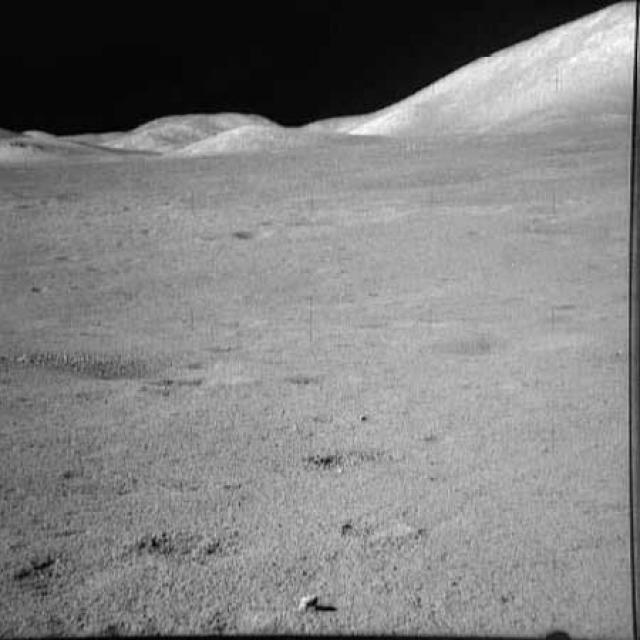crater: (52, 350, 197, 382), (232, 225, 267, 242)
rock: (296, 592, 324, 617)
